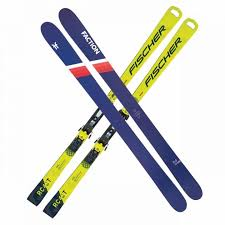skis: (26, 6, 199, 218), (40, 8, 204, 211)
